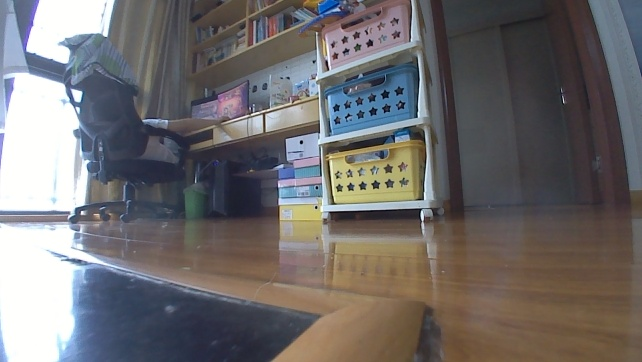door_anno: (541, 0, 608, 209)
